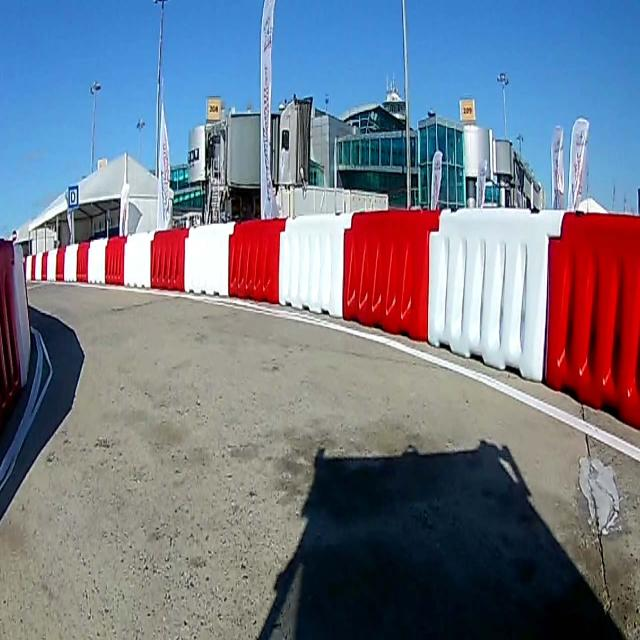durak: (68, 185, 78, 208)
